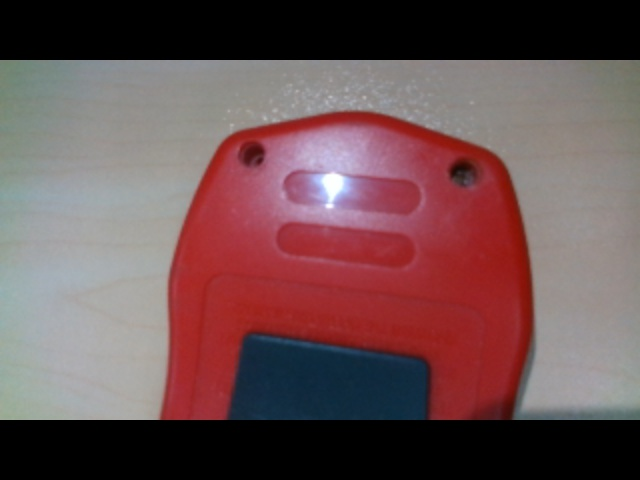Screw holes: (444, 155, 490, 189), (234, 138, 271, 170)
